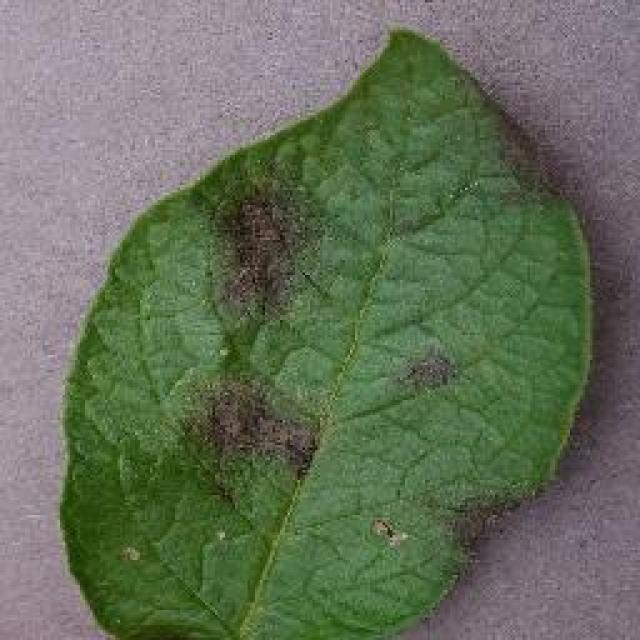late_blight: (52, 20, 598, 638)
